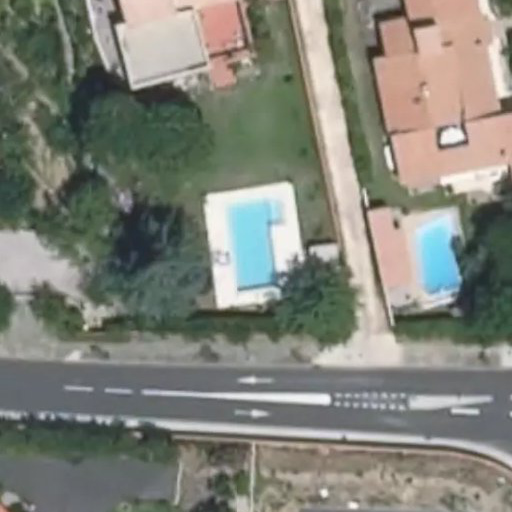pool: (224, 197, 288, 297), (414, 222, 466, 292)
